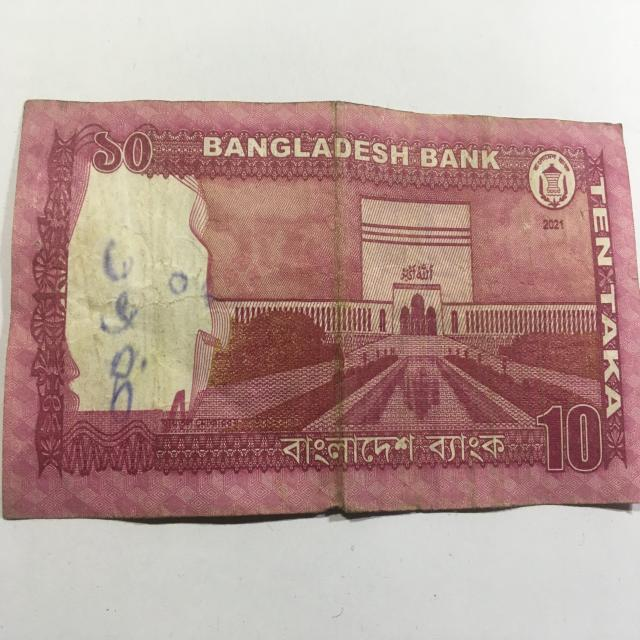Taka: (10, 88, 640, 533)
